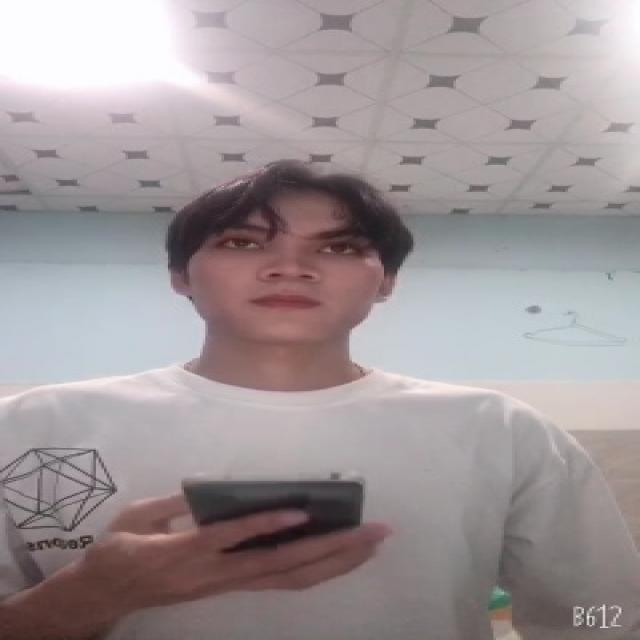Phone: (179, 471, 369, 546)
